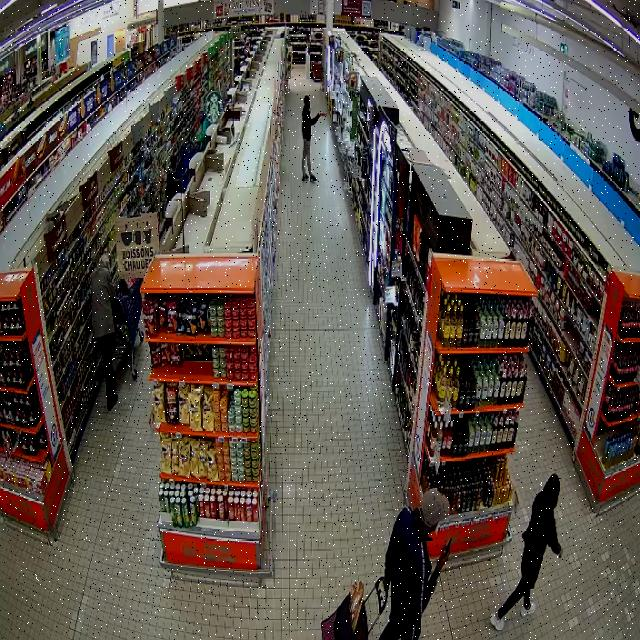article: (319, 113, 327, 118)
hands: (437, 547, 449, 571), (383, 578, 389, 589), (558, 544, 562, 557), (316, 113, 320, 118)
person: (490, 473, 562, 630), (380, 489, 448, 639), (301, 94, 321, 182)
